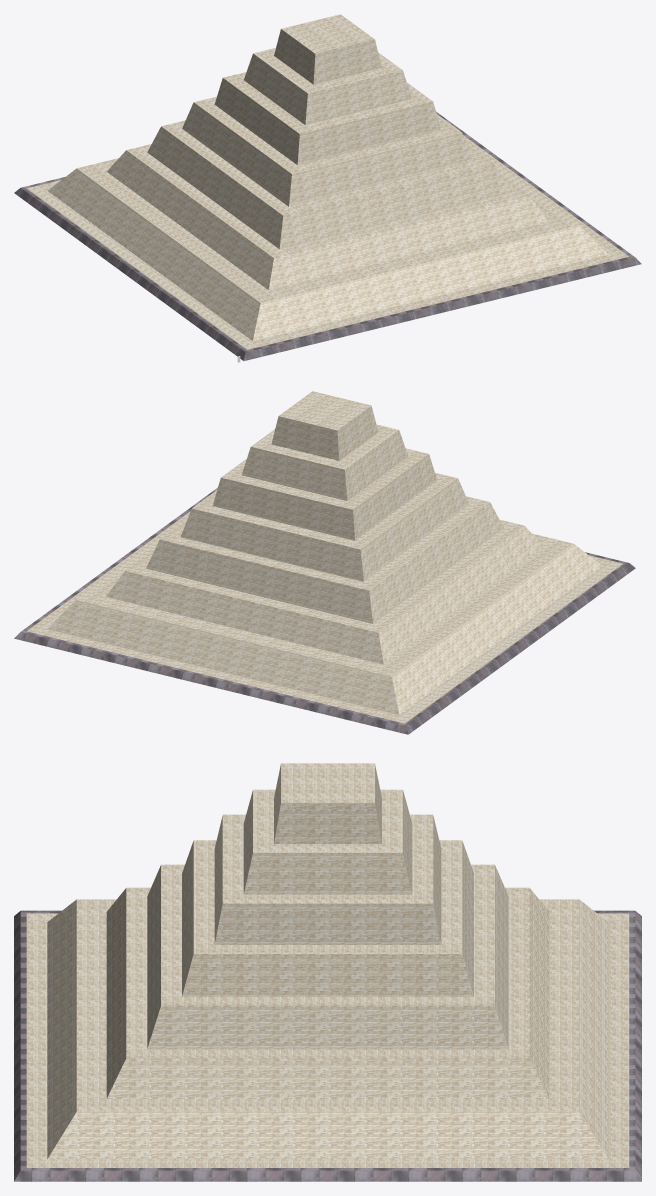
The model's file is Neferirkare_Pyramid_unfinished.glb.
3 renders of one model, top to bottom at view 1: azimuth 30°, elevation 25°; view 2: azimuth 150°, elevation 25°; view 3: azimuth 270°, elevation 25°, orthographic. The views are drawn at different scales.
Visible parts, largest first — view 1: Mesh1 Model; view 2: Mesh1 Model; view 3: Mesh1 Model.
Boxes of the visible parts, x1,y1,x2,y2 form: Mesh1 Model: (14, 14, 641, 360); Mesh1 Model: (14, 391, 635, 734); Mesh1 Model: (14, 763, 641, 1181).
Bounding box in the file's own units: 107 × 49 × 105.
Materials: 3 (3 with a texture image).
